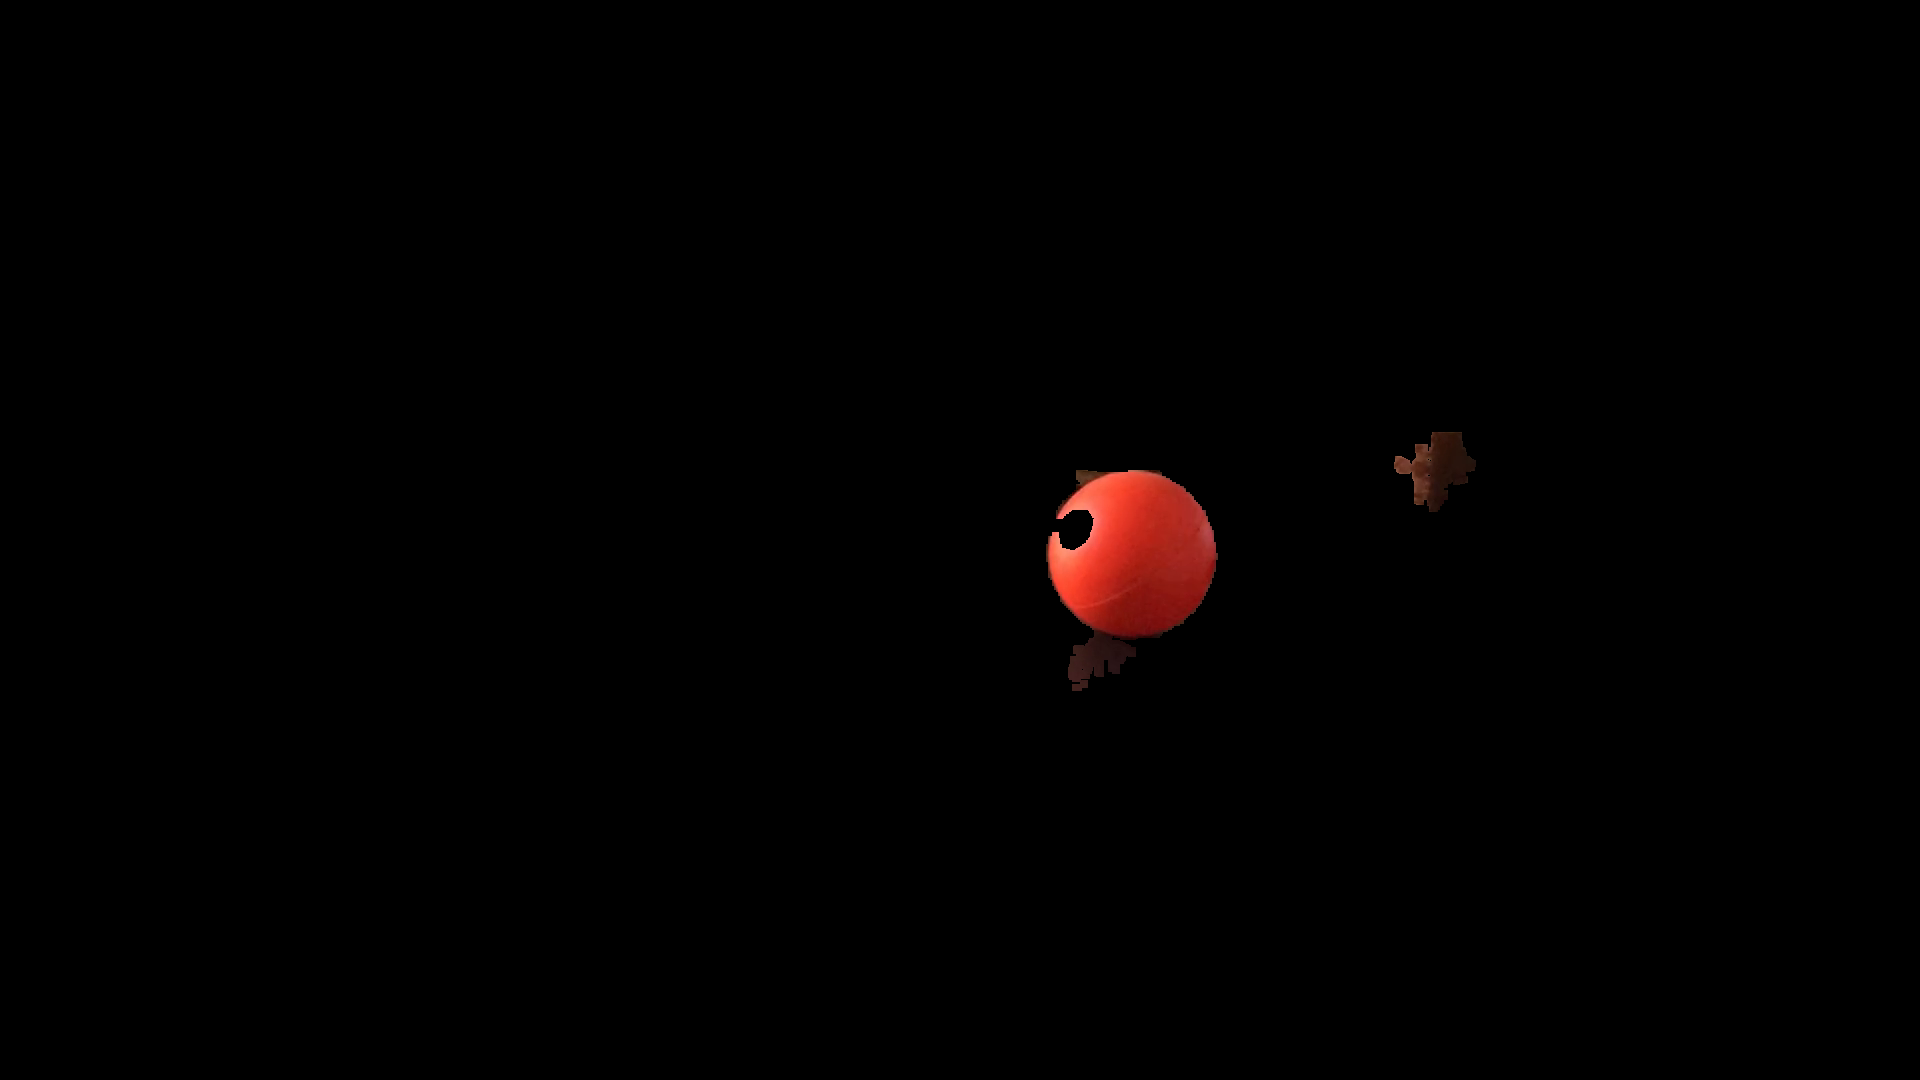Ball: (1050, 465, 1220, 637)
